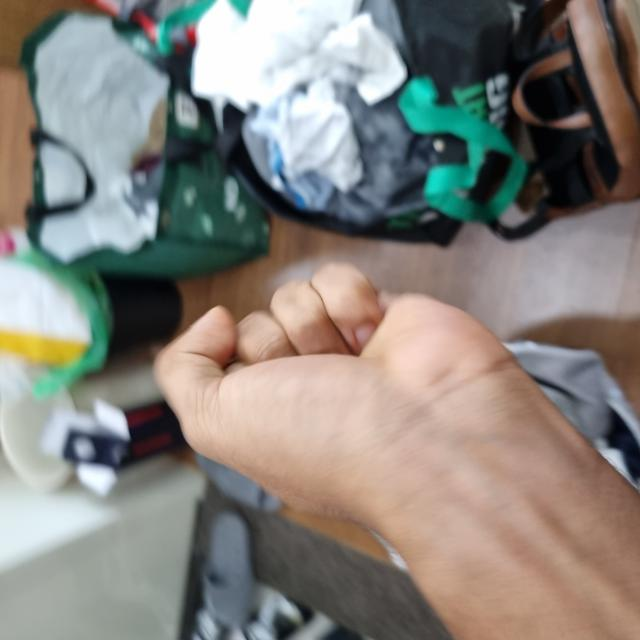Rock: (81, 156, 371, 555)
